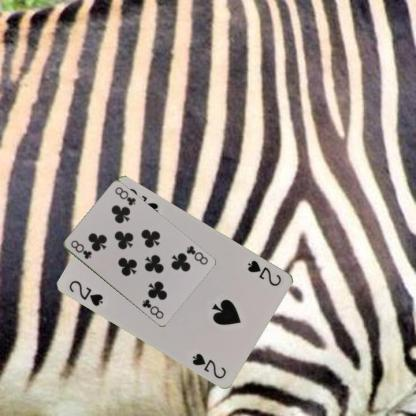2s: (66, 278, 106, 308), (245, 257, 283, 288)
8c: (183, 244, 209, 266), (68, 238, 93, 260)
